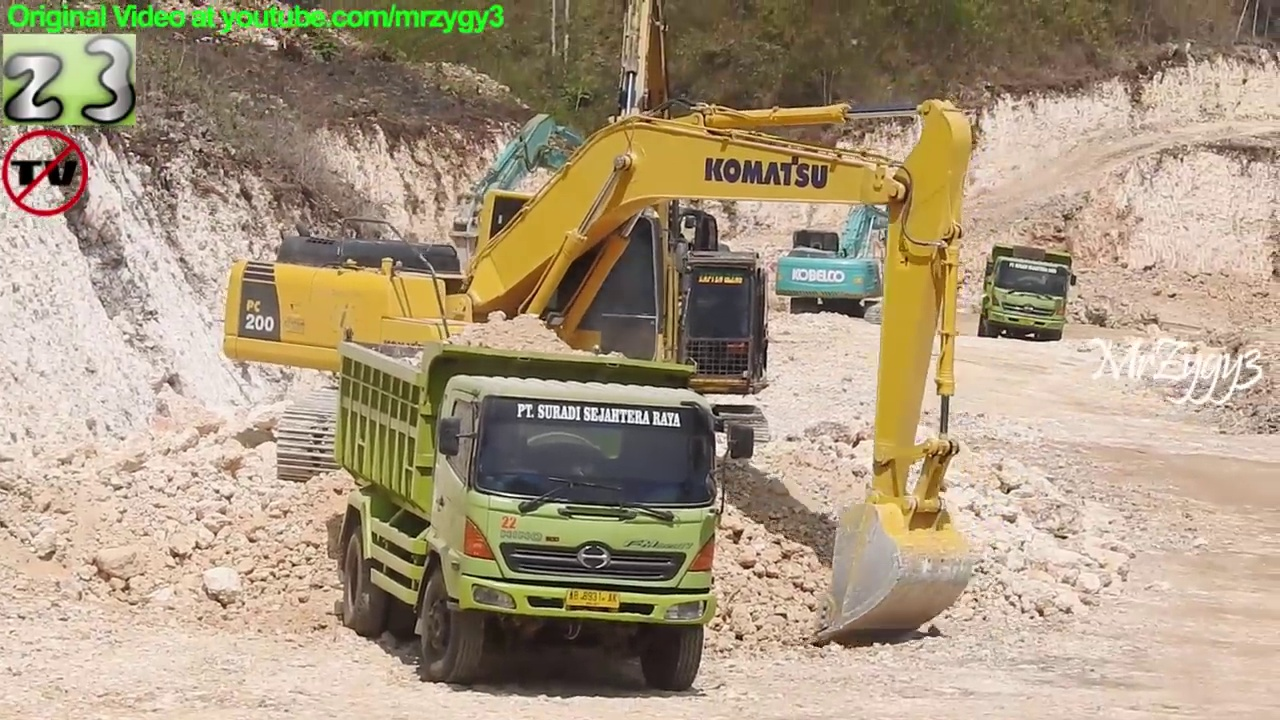excavator: (219, 98, 979, 650), (418, 1, 784, 474), (774, 196, 900, 321)
truck: (975, 236, 1077, 347)
